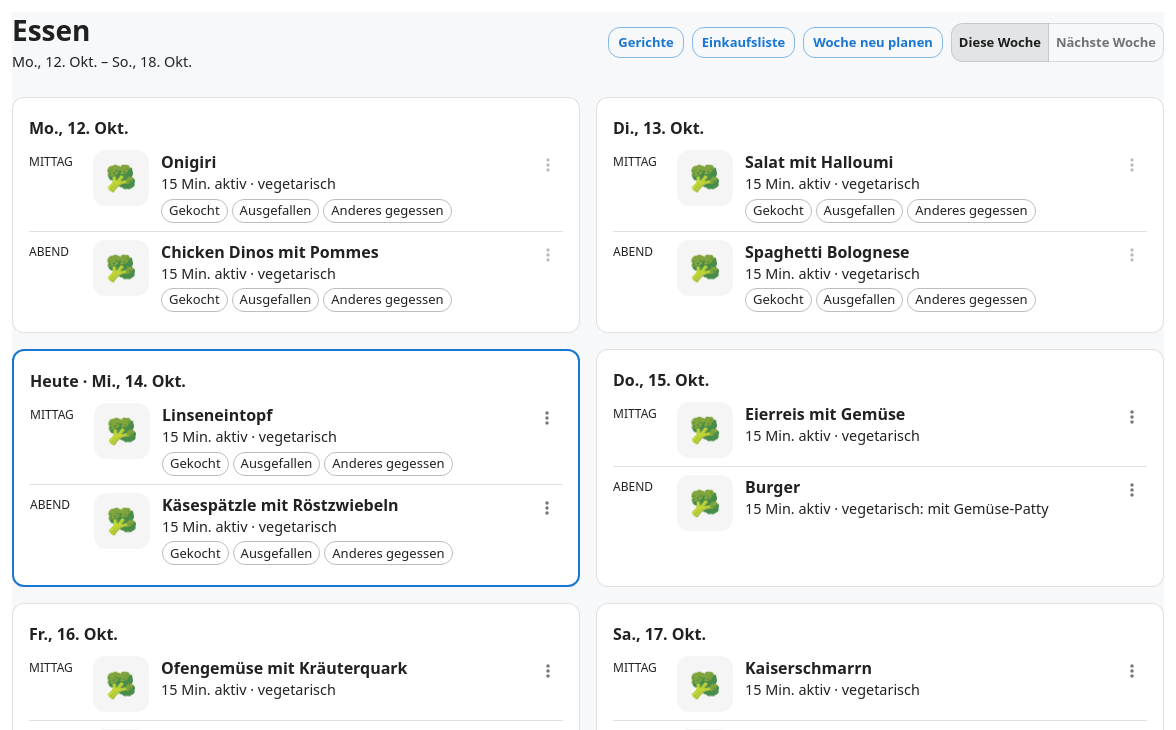
it: MealPlanPage (FOOD-009) › replaces a meal, cycles through alternatives and undoes (FOOD-007)
Click the button named "Aktionen: Mi., 14. Okt. Abend".
click(547, 508)  # box [532,493,562,523]
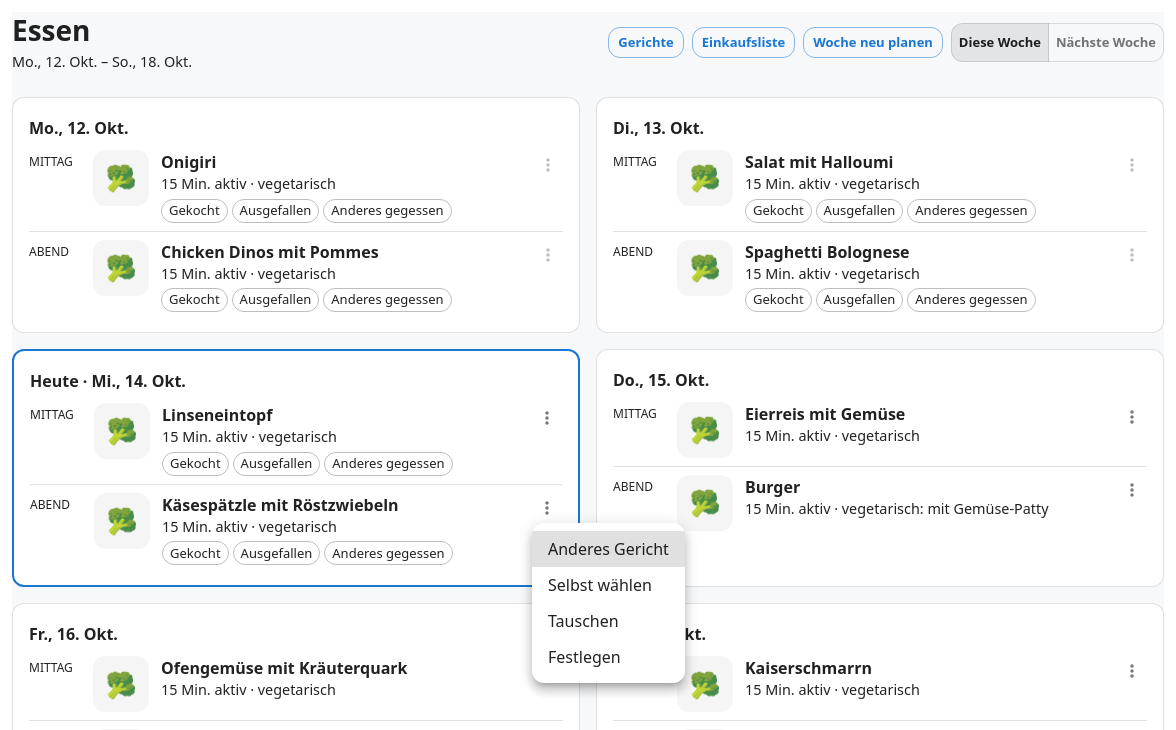
Click the menu item "Anderes Gericht".
click(608, 549)  # box [532,531,685,567]
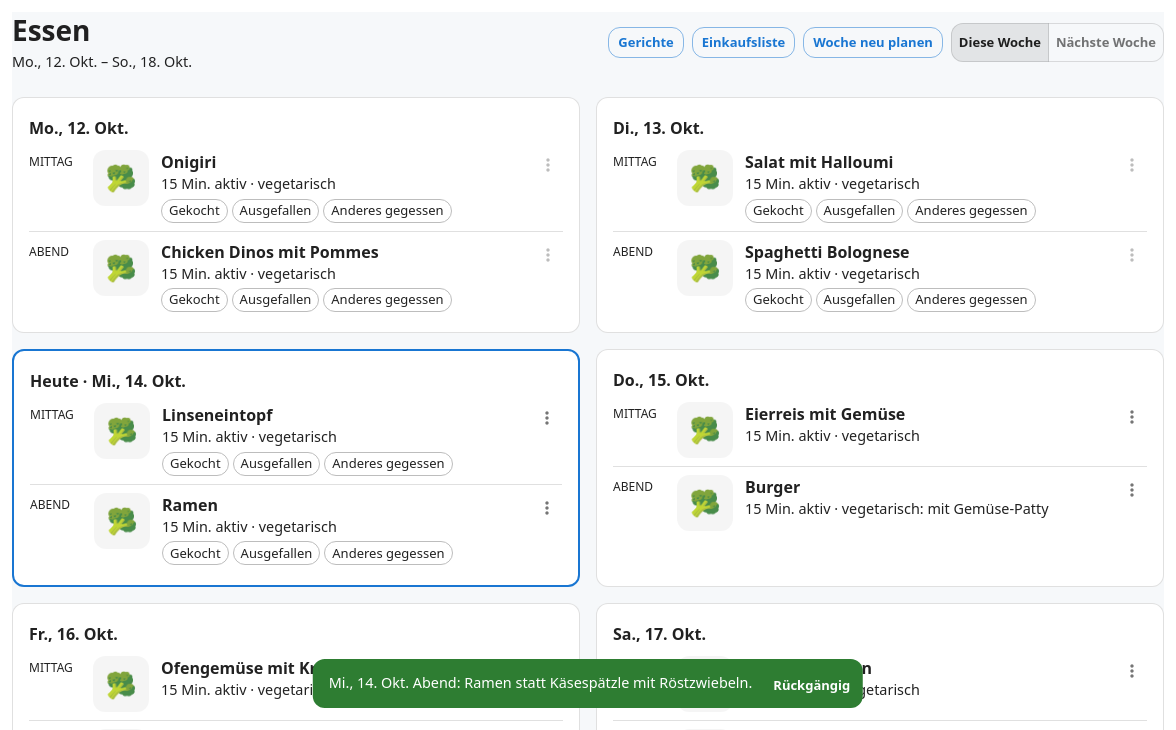
Expected: the text "Mi., 14. Okt. Abend: Ramen statt Käsespätzle mit Röstzwiebeln." is shown, [329,673,752,692]
Expected: the element named "Abend: Ramen" is shown, [30,485,562,573]
Click the button named "Aktionen: Mi., 14. Okt. Abend".
click(547, 508)  # box [532,493,562,523]
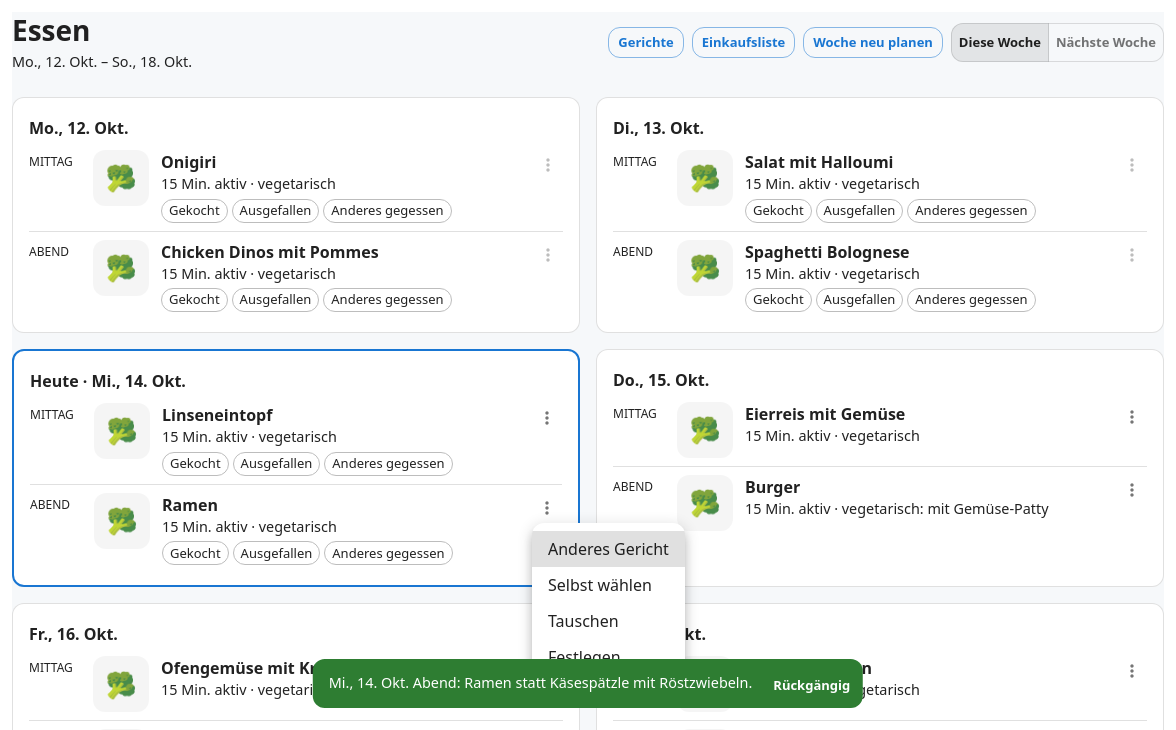
Click the menu item "Anderes Gericht".
click(608, 549)  # box [532,531,685,567]
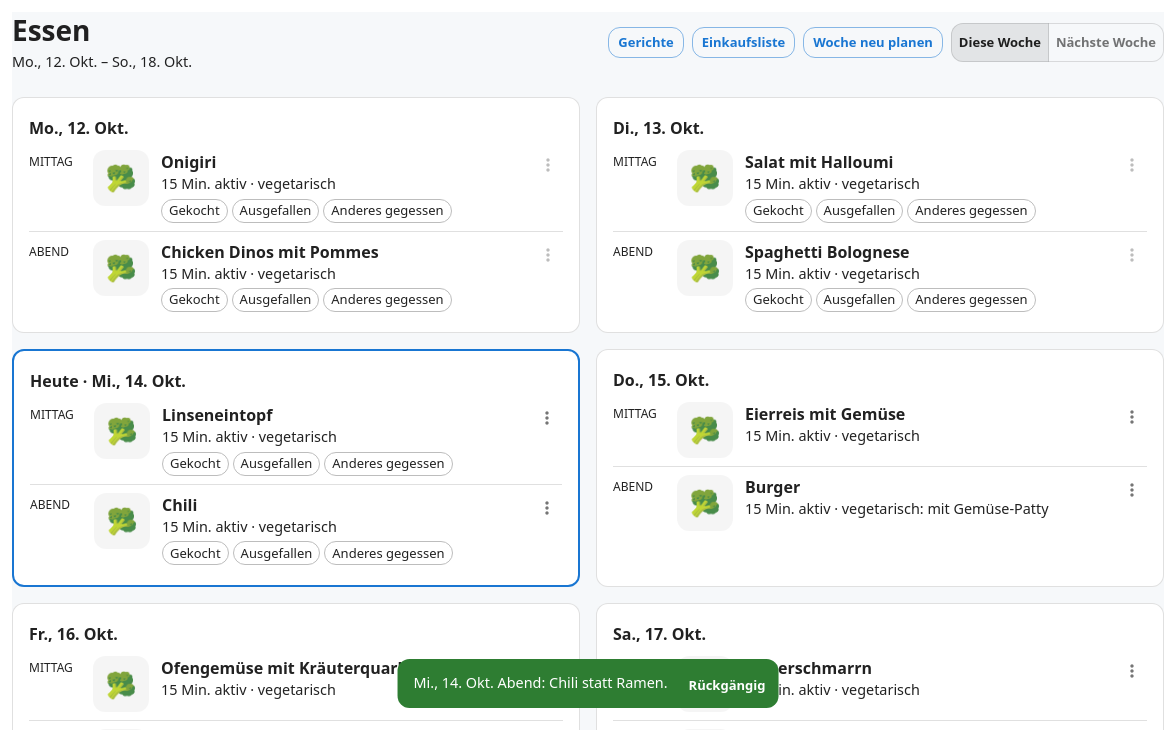
Expected: the text "Mi., 14. Okt. Abend: Chili statt Ramen." is shown, [414,673,668,692]
Click the button "Rückgängig".
click(727, 686)  # box [684,670,770,701]
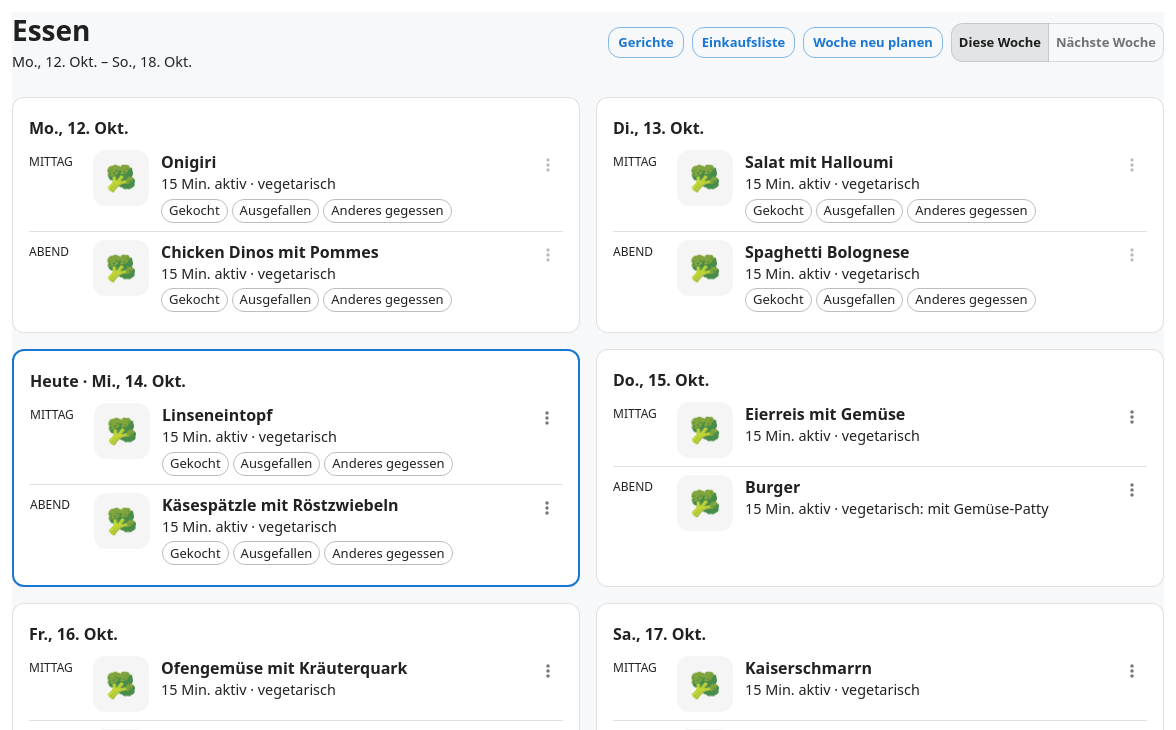
Expected: the element named "Abend: Käsespätzle mit Röstzwiebeln" is shown, [30,485,562,573]
